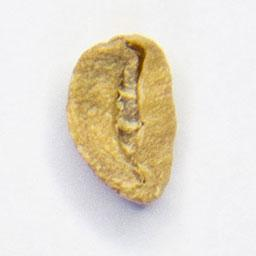defect: (63, 31, 181, 209)
